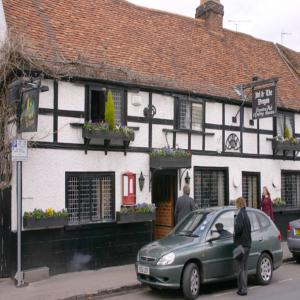Vehicle-registration-plate: (139, 266, 151, 275), (296, 230, 300, 235)
